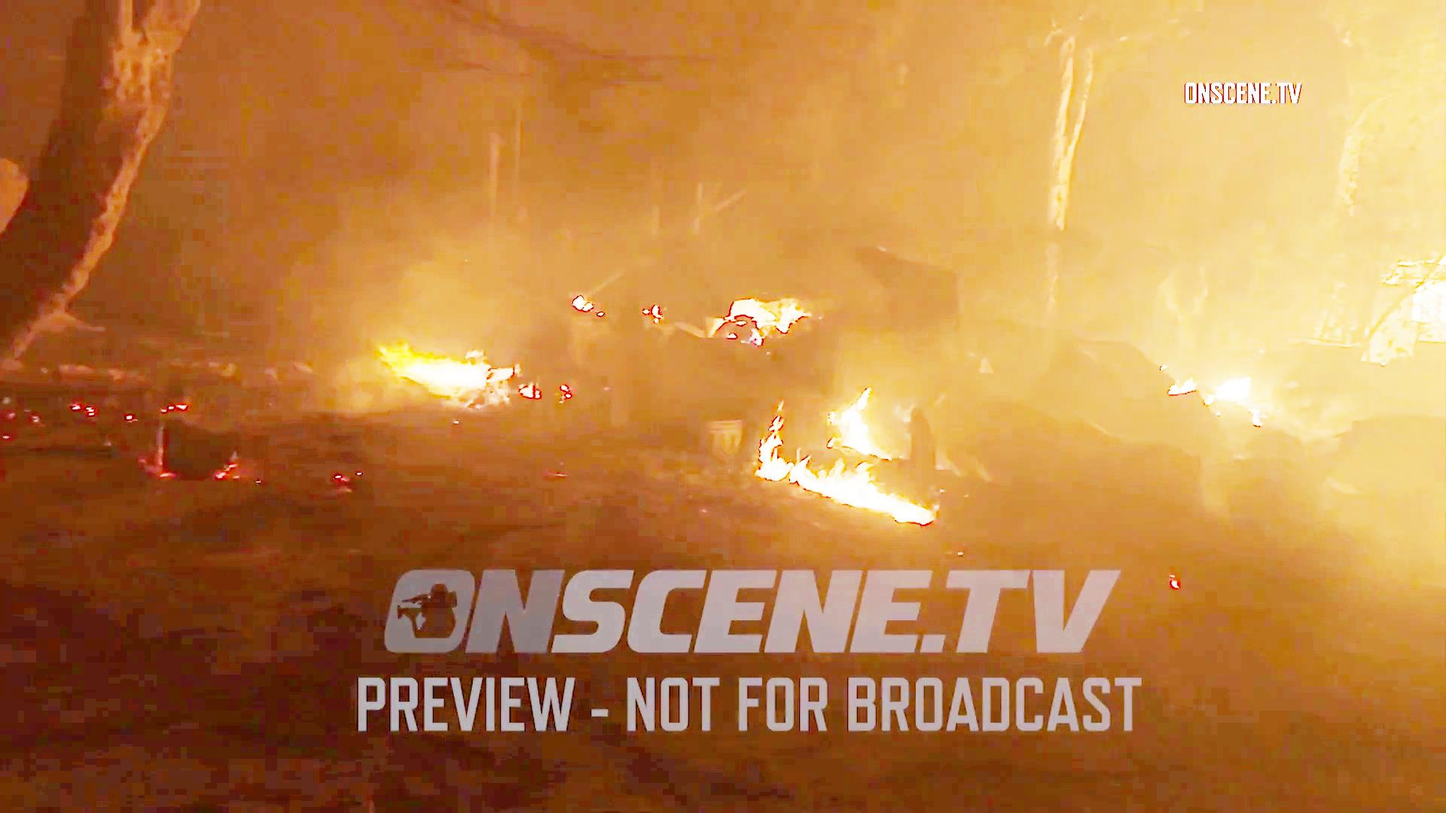fire: (752, 409, 939, 529), (386, 332, 526, 405)
